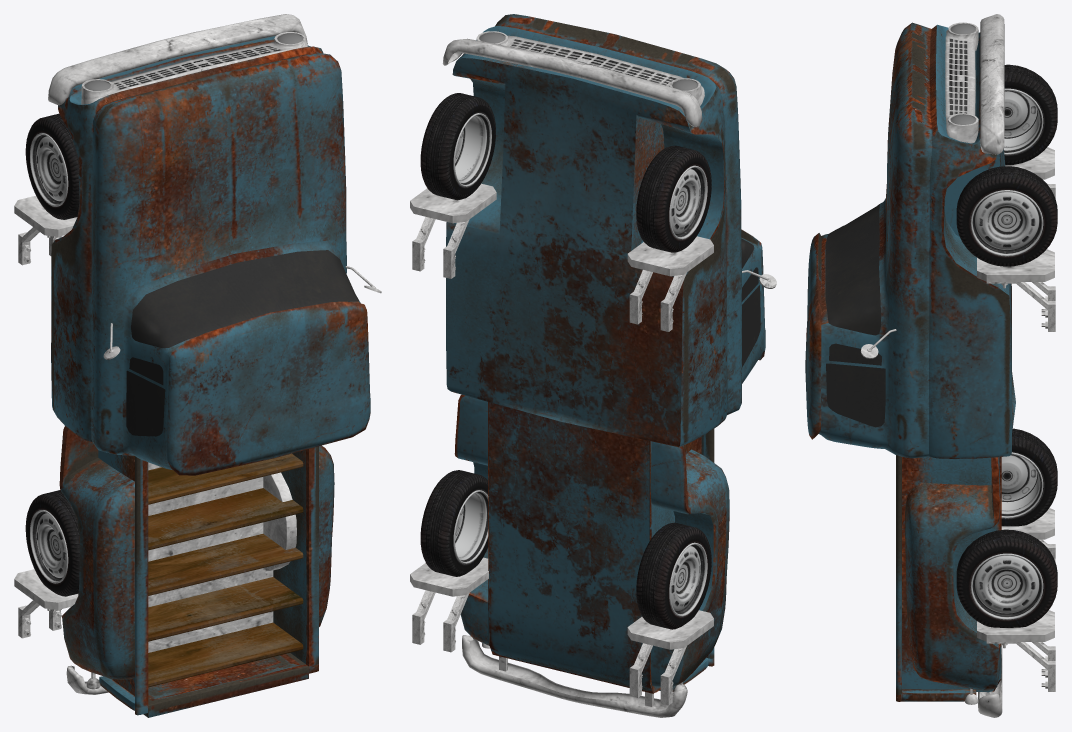
The model's file is Prop_Pickup.fbx.
3 renders of one model, left to right at view 1: azimuth 30°, elevation 25°; view 2: azimuth 150°, elevation 25°; view 3: azimuth 270°, elevation 25°, orthographic. The views are drawn at different scales.
Parts seen in each view (by area): view 1: Prop_Pickup_Body, Prop_Pickup_Wheel, Prop_Pickup_WheelPlatform; view 2: Prop_Pickup_Body, Prop_Pickup_Wheel, Prop_Pickup_WheelPlatform; view 3: Prop_Pickup_Body, Prop_Pickup_Wheel, Prop_Pickup_WheelPlatform.
Part boxes in pixels (x1,y1,x2,y2): Prop_Pickup_Body: (48, 14, 381, 717); Prop_Pickup_Wheel: (25, 113, 79, 596); Prop_Pickup_WheelPlatform: (14, 195, 78, 638); Prop_Pickup_Body: (442, 14, 776, 717); Prop_Pickup_Wheel: (420, 93, 711, 629); Prop_Pickup_WheelPlatform: (410, 183, 713, 705); Prop_Pickup_Body: (805, 14, 1015, 717); Prop_Pickup_Wheel: (956, 64, 1057, 627); Prop_Pickup_WheelPlatform: (977, 147, 1055, 691).
Bounding box in the file's own units: 119 × 265 × 98.21.
